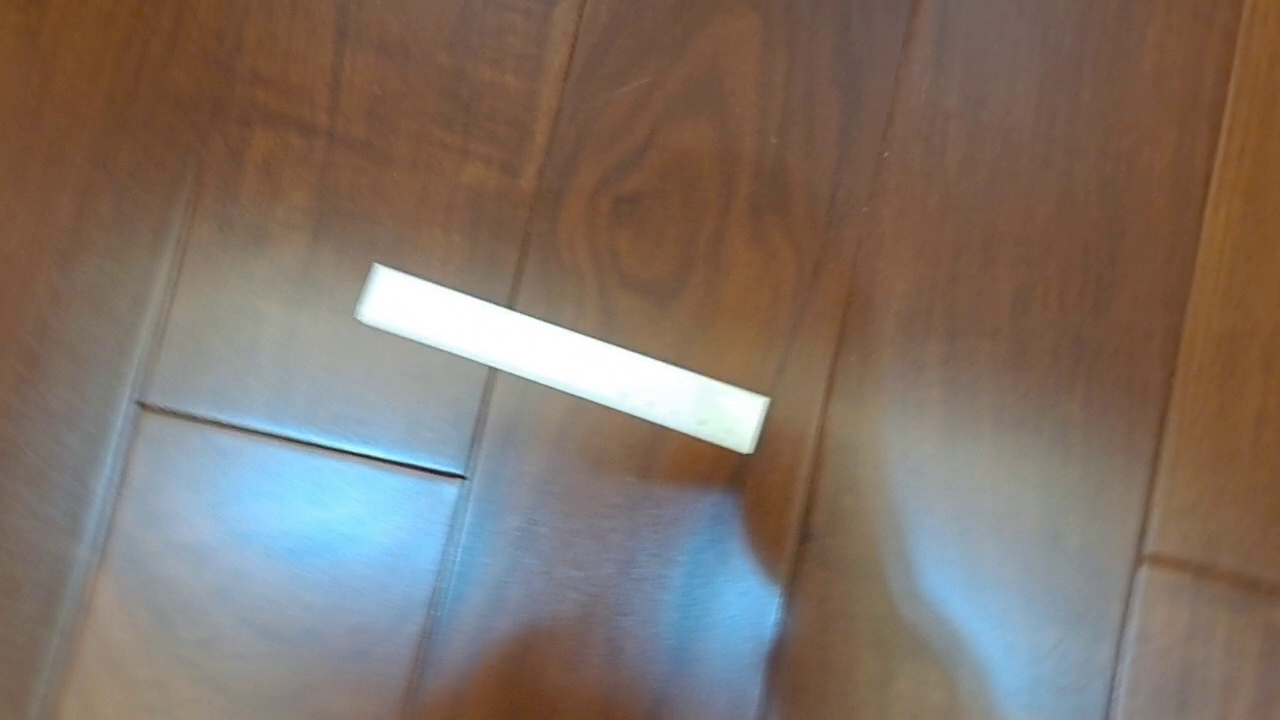ruler: (352, 260, 773, 456)
